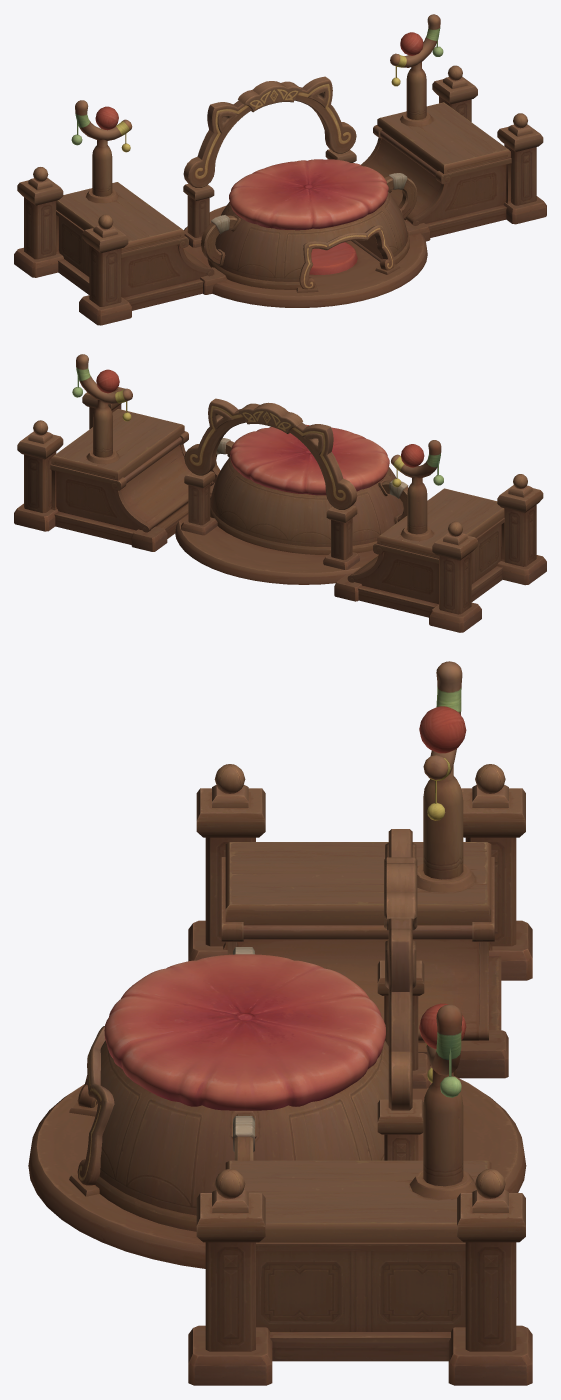
The model's file is Homeworld_Interior_Common_Decoration_Prop_Lumaotai_01_Lod0.fbx.
The picture shows the model from 3 angles, top to bottom: view 1: azimuth 30°, elevation 25°; view 2: azimuth 150°, elevation 25°; view 3: azimuth 270°, elevation 25°; orthographic projection. The views are drawn at different scales.
Visible parts, largest first — view 1: Indoor_Md_Build_CatCafe_Lmt_A_01_Lod0; view 2: Indoor_Md_Build_CatCafe_Lmt_A_01_Lod0; view 3: Indoor_Md_Build_CatCafe_Lmt_A_01_Lod0.
Boxes of the visible parts, x1,y1,x2,y2 form: Indoor_Md_Build_CatCafe_Lmt_A_01_Lod0: (14,14,546,325); Indoor_Md_Build_CatCafe_Lmt_A_01_Lod0: (14,354,546,632); Indoor_Md_Build_CatCafe_Lmt_A_01_Lod0: (28,661,532,1385).
Bounding box in the file's own units: 6.43 × 2.26 × 3.12.
Materials: 2 (2 with a texture image).
